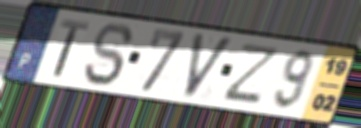7: (139, 27, 189, 94)
9: (271, 48, 317, 112)
S: (81, 21, 137, 88)
T: (51, 17, 92, 79)
V: (183, 31, 237, 101)
Z: (218, 42, 283, 106)
